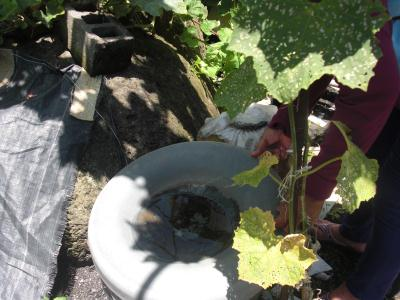plastic_bag: (1, 56, 89, 300)
